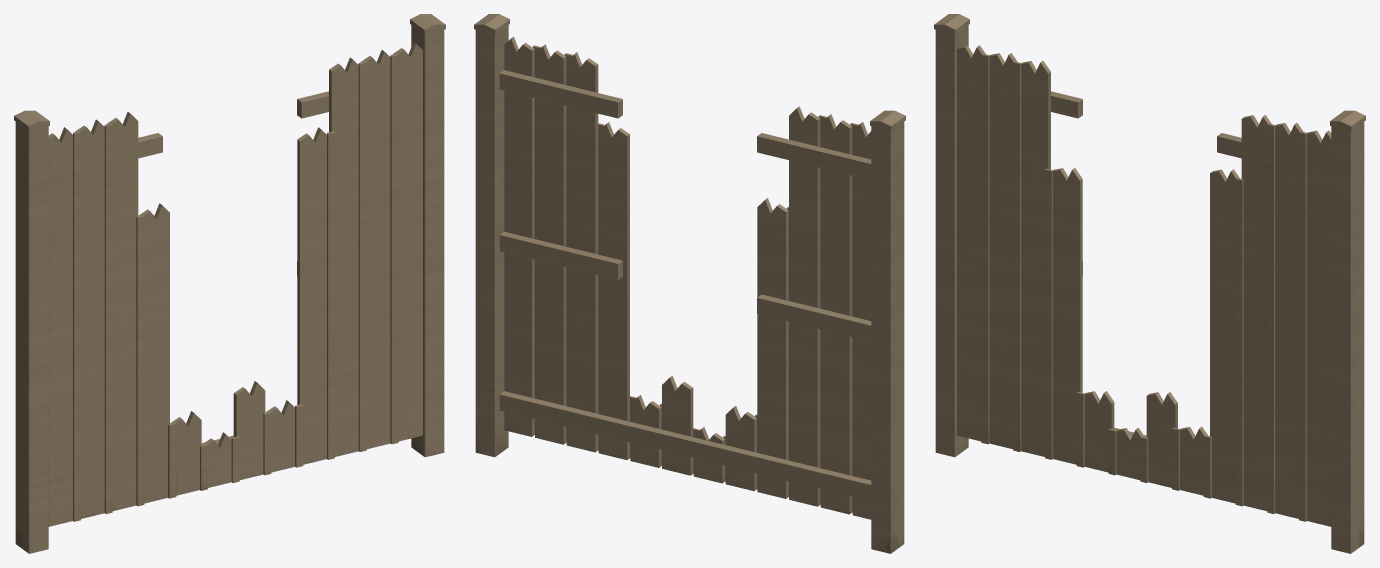
The model's file is wood_fence_broken.glb.
3 views of the same model, side by side, from view 1: azimuth 30°, elevation 25°; view 2: azimuth 150°, elevation 25°; view 3: azimuth 330°, elevation 25° (orthographic).
Visible parts, largest first — view 1: WoodFenceBroken; view 2: WoodFenceBroken; view 3: WoodFenceBroken.
Part boxes in pixels (x1,y1,x2,y2): WoodFenceBroken: (14,14,445,553); WoodFenceBroken: (474,14,905,553); WoodFenceBroken: (934,14,1365,553).
Size of what is drawn, in the model's own units: 2.11 by 2.08 by 0.128.
1 material, 1 textured.
